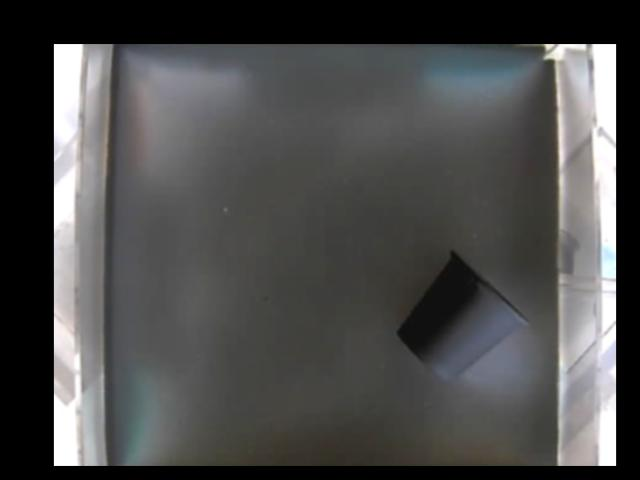Cup: (395, 247, 529, 380)
